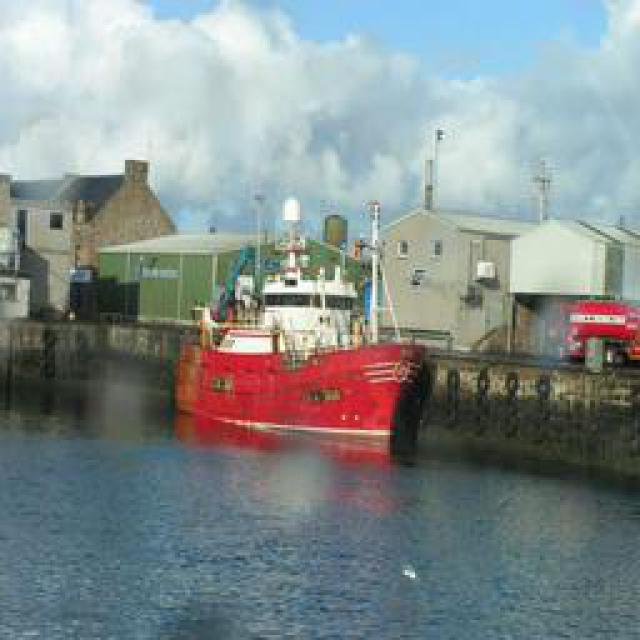Ship: (186, 219, 434, 454)
